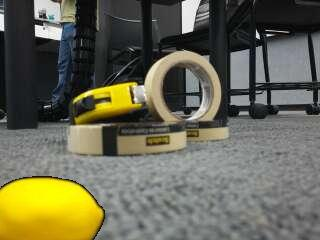lemon: (0, 177, 104, 240)
